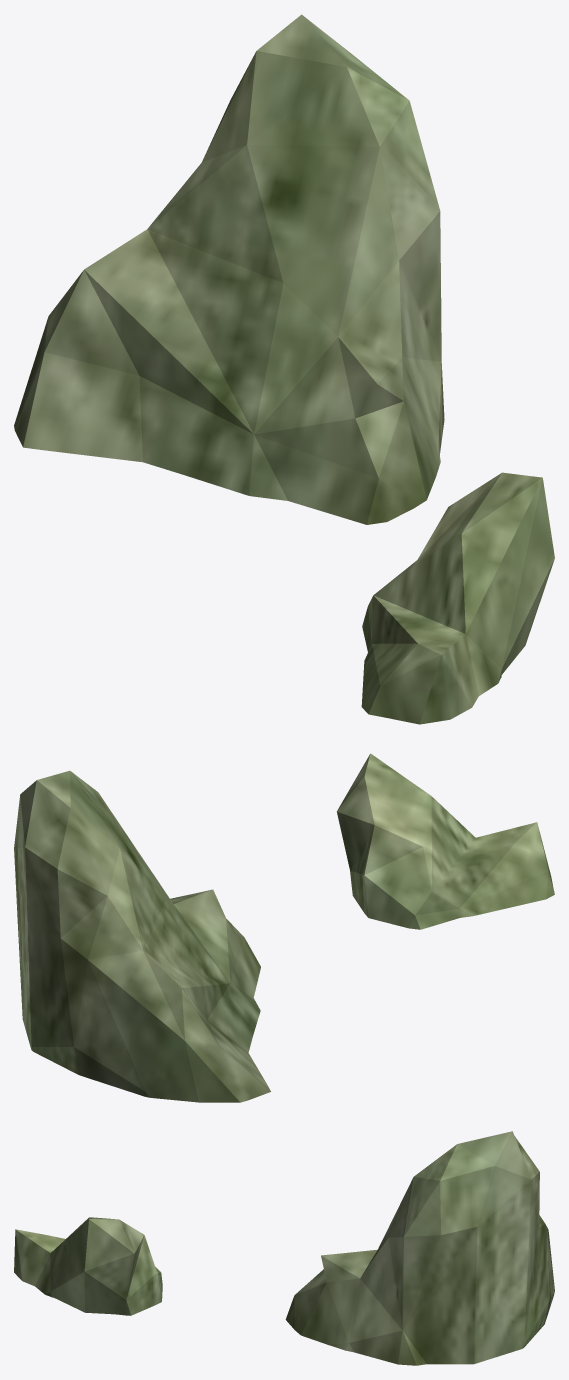
The picture shows the model from 3 angles, top to bottom: view 1: azimuth 30°, elevation 25°; view 2: azimuth 150°, elevation 25°; view 3: azimuth 270°, elevation 25°; orthographic projection. The views are drawn at different scales.
Size of the model in its own units: 0.5904 by 0.5265 by 1.18.
Materials: 1 (1 with a texture image).
